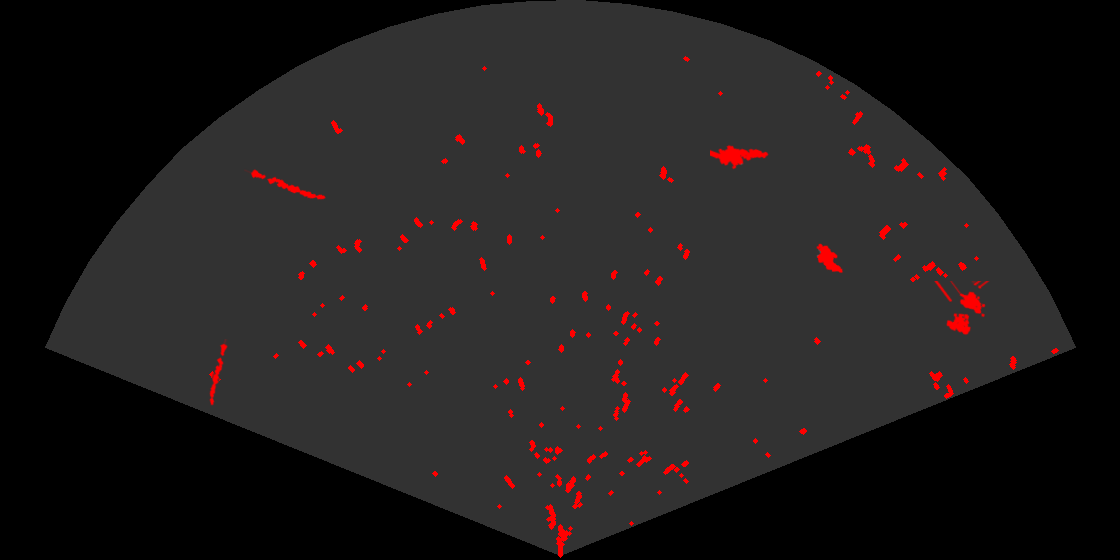AUV: (815, 242, 845, 275)
cage: (933, 281, 991, 337)
chain: (244, 168, 328, 201), (208, 339, 229, 406)
frogman: (710, 143, 770, 171)
